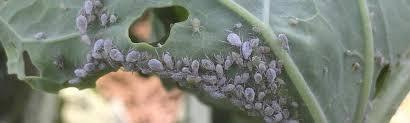Insects: (214, 25, 244, 50), (154, 45, 179, 71), (184, 14, 206, 39), (272, 31, 294, 54), (69, 14, 90, 34), (121, 46, 141, 65), (237, 39, 253, 61), (199, 56, 217, 75), (146, 56, 165, 73), (109, 45, 125, 65), (246, 22, 266, 38), (183, 71, 203, 87), (208, 89, 230, 103), (228, 71, 244, 89), (202, 70, 220, 85), (188, 57, 202, 76), (222, 51, 234, 73), (210, 50, 226, 66), (243, 86, 258, 103), (169, 71, 190, 83), (81, 0, 94, 19), (264, 67, 277, 85), (102, 40, 116, 56), (260, 102, 276, 116), (83, 61, 100, 74), (257, 43, 274, 56), (213, 62, 224, 82), (73, 68, 91, 80), (138, 64, 153, 78), (78, 34, 92, 48), (254, 99, 267, 114), (98, 13, 109, 30), (288, 97, 301, 111), (108, 12, 120, 27), (251, 72, 263, 87), (68, 78, 85, 87), (272, 110, 283, 123), (262, 114, 275, 123)
